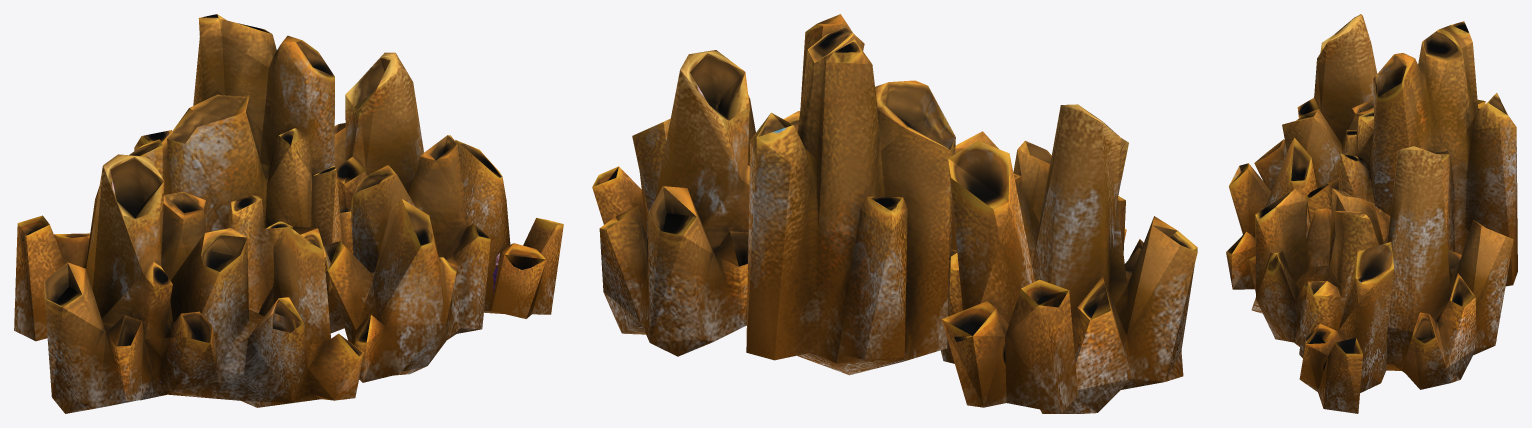
3 views of the same model, side by side, from view 1: azimuth 30°, elevation 25°; view 2: azimuth 150°, elevation 25°; view 3: azimuth 270°, elevation 25° (orthographic). The views are drawn at different scales.
Parts seen in each view (by area): view 1: sc09; view 2: sc09; view 3: sc09.
Boxes of the visible parts, x1,y1,x2,y2 form: sc09: (14, 14, 563, 413); sc09: (592, 14, 1197, 413); sc09: (1226, 14, 1517, 413).
Bounding box in the file's own units: 423 × 242 × 231.
